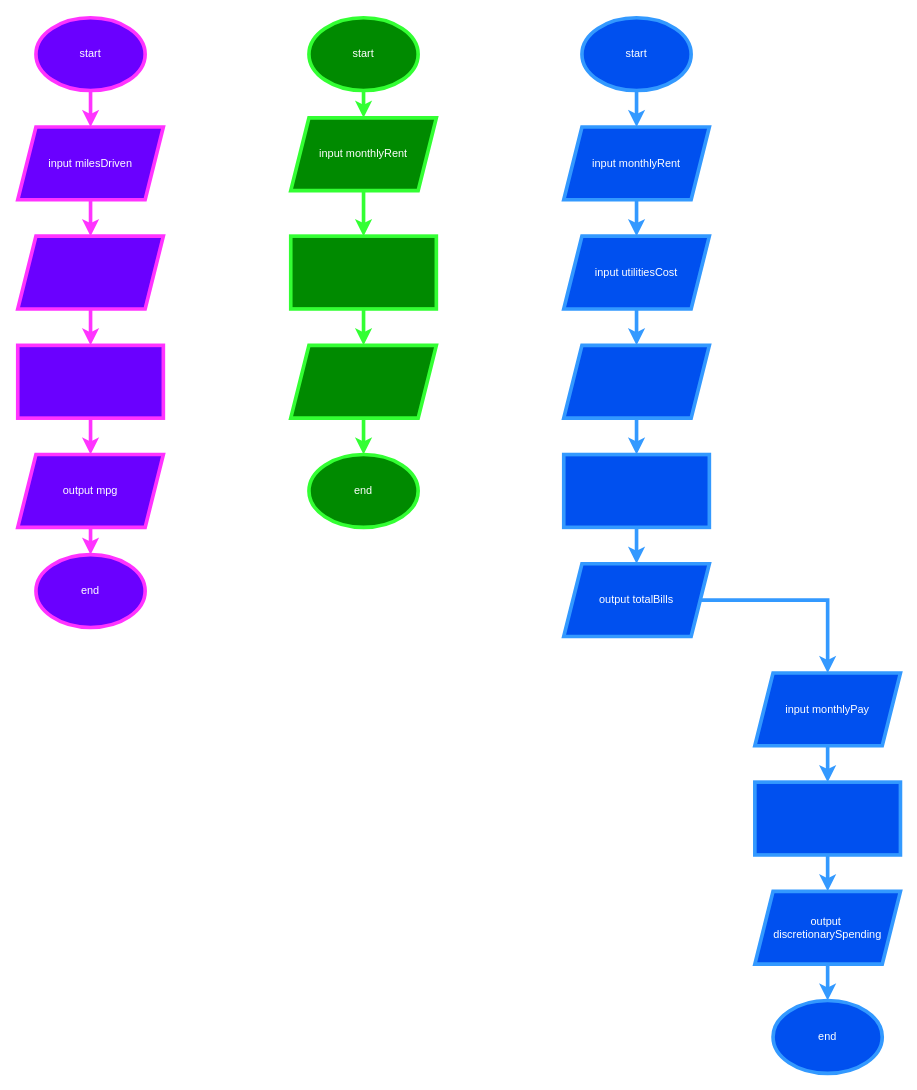
This 917x1090 diagram has some shape labels left out. The box of each missing label's shape, as (x1, y1, x2, y2) in pixels:
dailyRent = monthlyRent / 30: (288, 234, 438, 310)
discretionarySpending = monthlyPay - totalBills: (753, 780, 902, 856)
input gallonsOfGasUsed: (15, 234, 165, 310)
input groceryCost: (561, 343, 711, 420)
mpg = milesDriven / gallonsOfGasUsed: (15, 343, 165, 420)
output dailyRent: (288, 343, 438, 420)
totalBills = monthlyRent + utilitiesCost + groceryCost: (561, 452, 711, 529)
